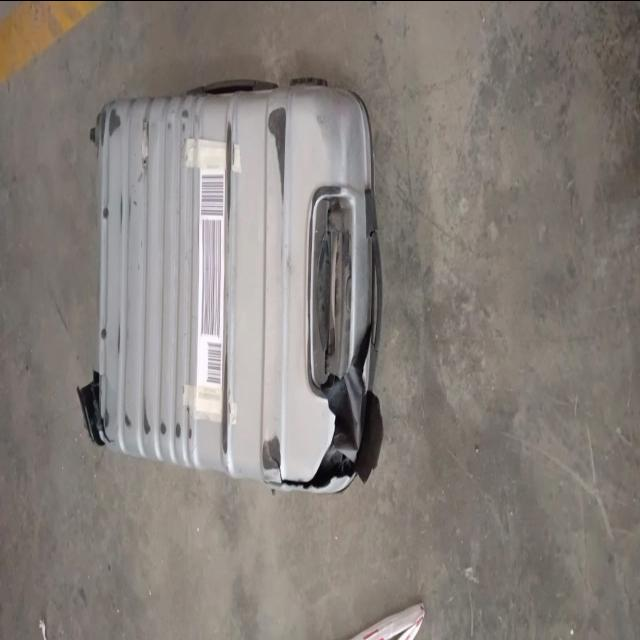Damage-bag: (261, 329, 382, 487), (78, 371, 109, 444), (268, 107, 286, 193), (210, 80, 276, 93), (109, 109, 120, 133)
